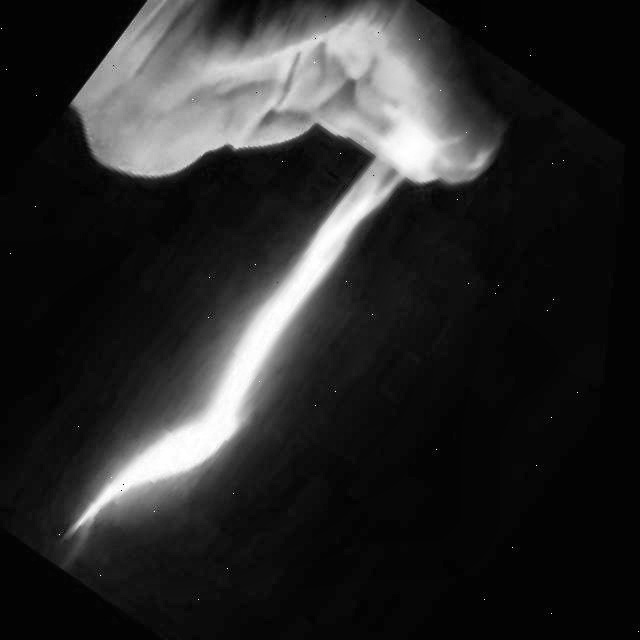Fire: (58, 84, 467, 586)
